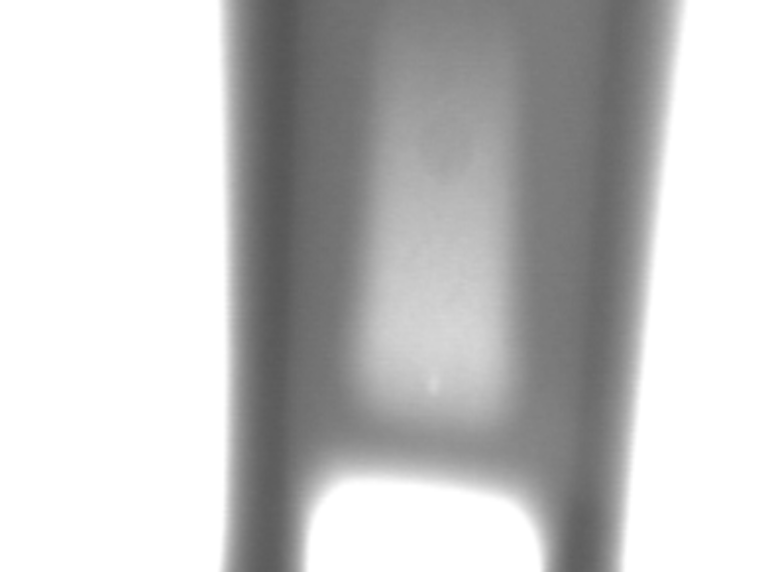defect: (428, 380, 446, 413)
